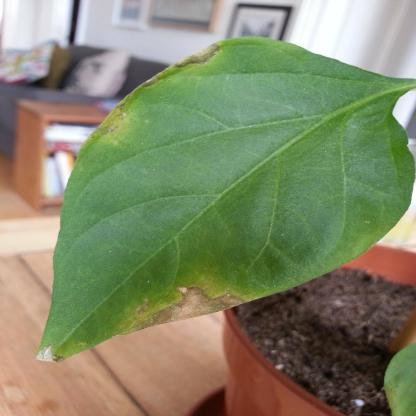bell pepper leaf spot: (34, 28, 414, 374)
